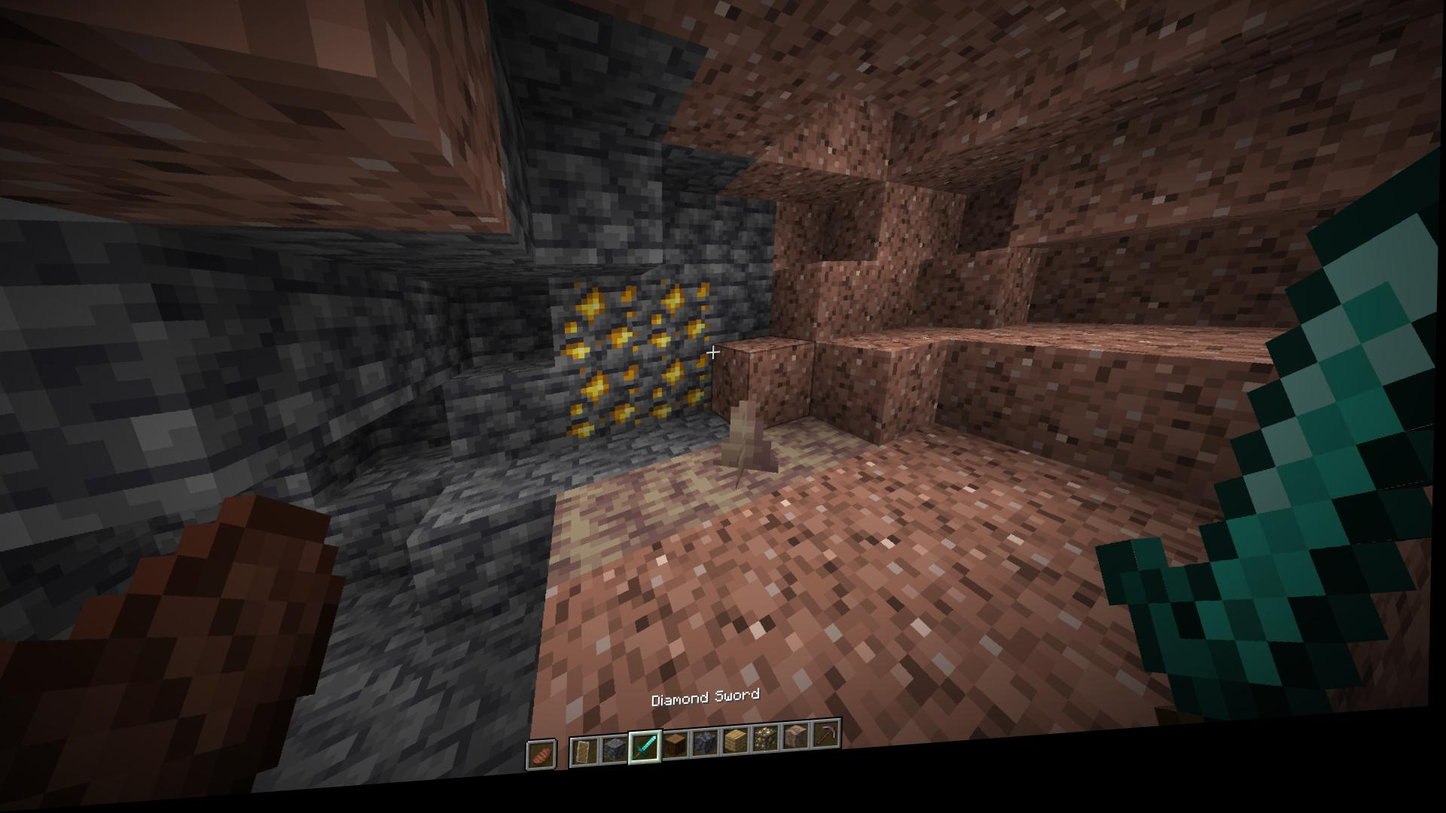gold ore: (550, 278, 644, 373), (568, 366, 646, 459), (644, 278, 718, 364), (649, 360, 715, 433)
